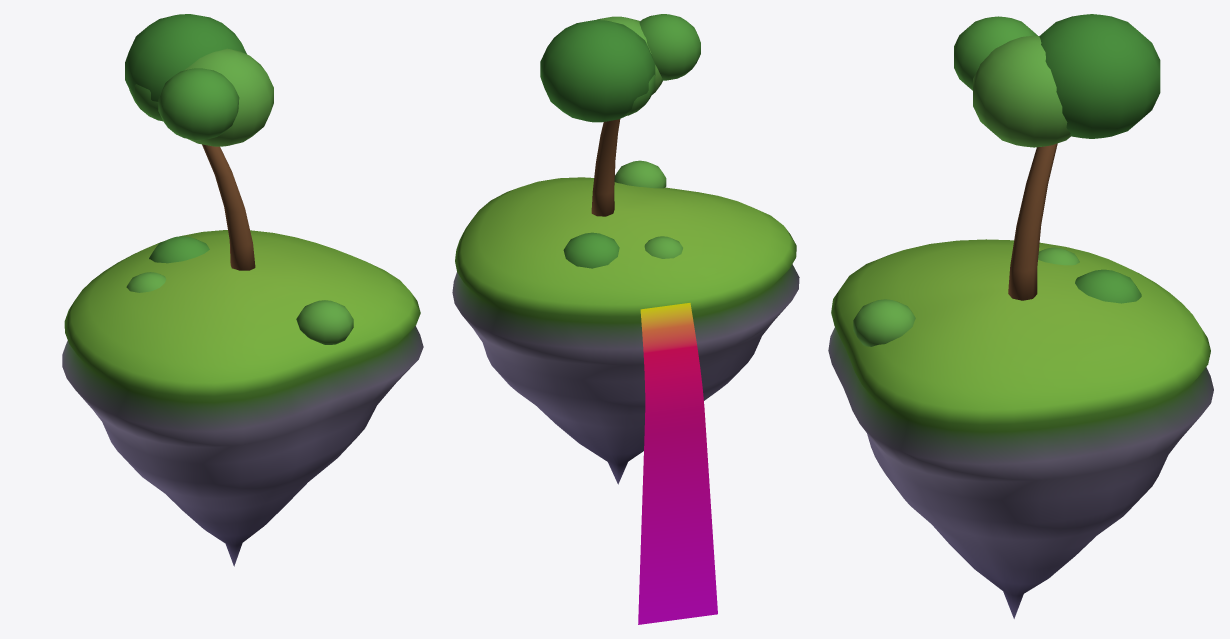
The model's file is insulita_cascada_b.glb.
3 renders of one model, left to right at view 1: azimuth 30°, elevation 25°; view 2: azimuth 150°, elevation 25°; view 3: azimuth 270°, elevation 25°, orthographic. The views are drawn at different scales.
Parts seen in each view (by area): view 1: Corp; view 2: Corp, Cascada; view 3: Corp.
Boxes of the visible parts, box(x1,y1,x2,y2) form: Corp: box(62, 14, 423, 566); Corp: box(452, 14, 799, 484); Cascada: box(638, 303, 717, 624); Corp: box(828, 14, 1213, 618).
Size of the model in its own units: 3.97 by 6.83 by 3.64.
